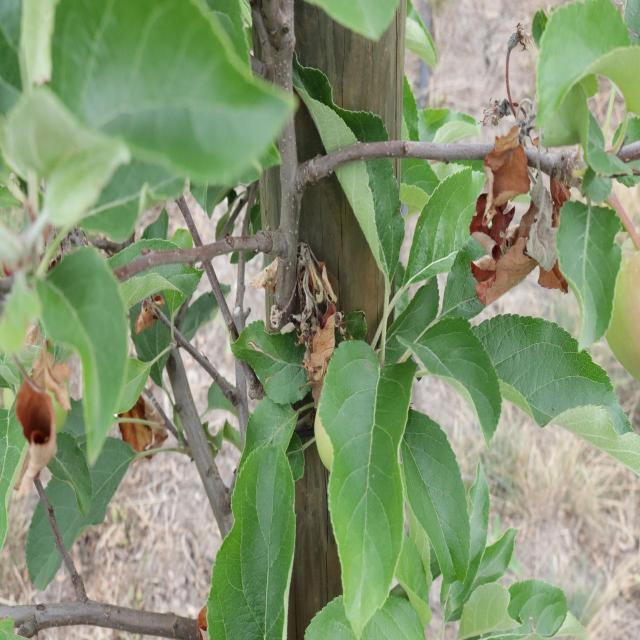-FireBlight-: (472, 112, 572, 298), (288, 230, 348, 383), (0, 362, 75, 469), (110, 390, 162, 448)
